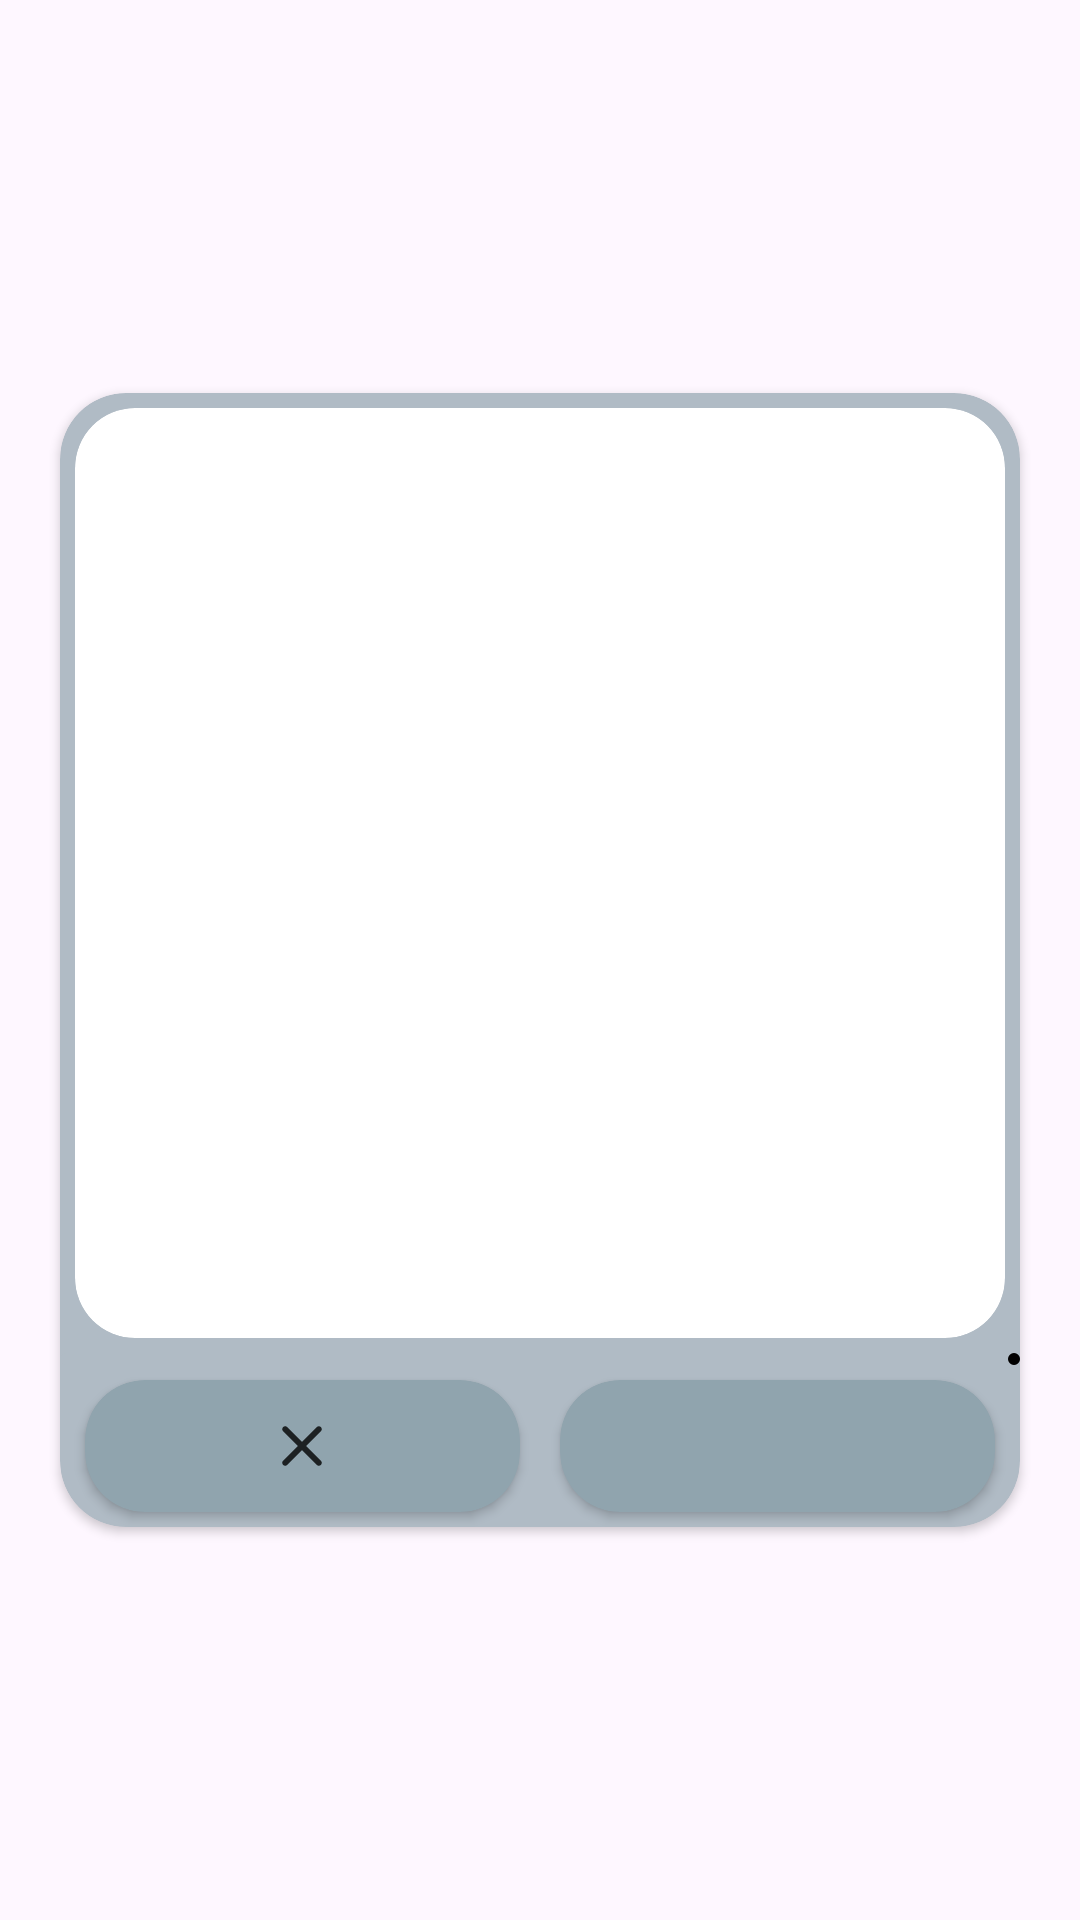

Icon bounding boxes for this 1080px×1920px phone screenshot, format (x1, y1, x2, y2):
close: (282, 1426, 322, 1466)
